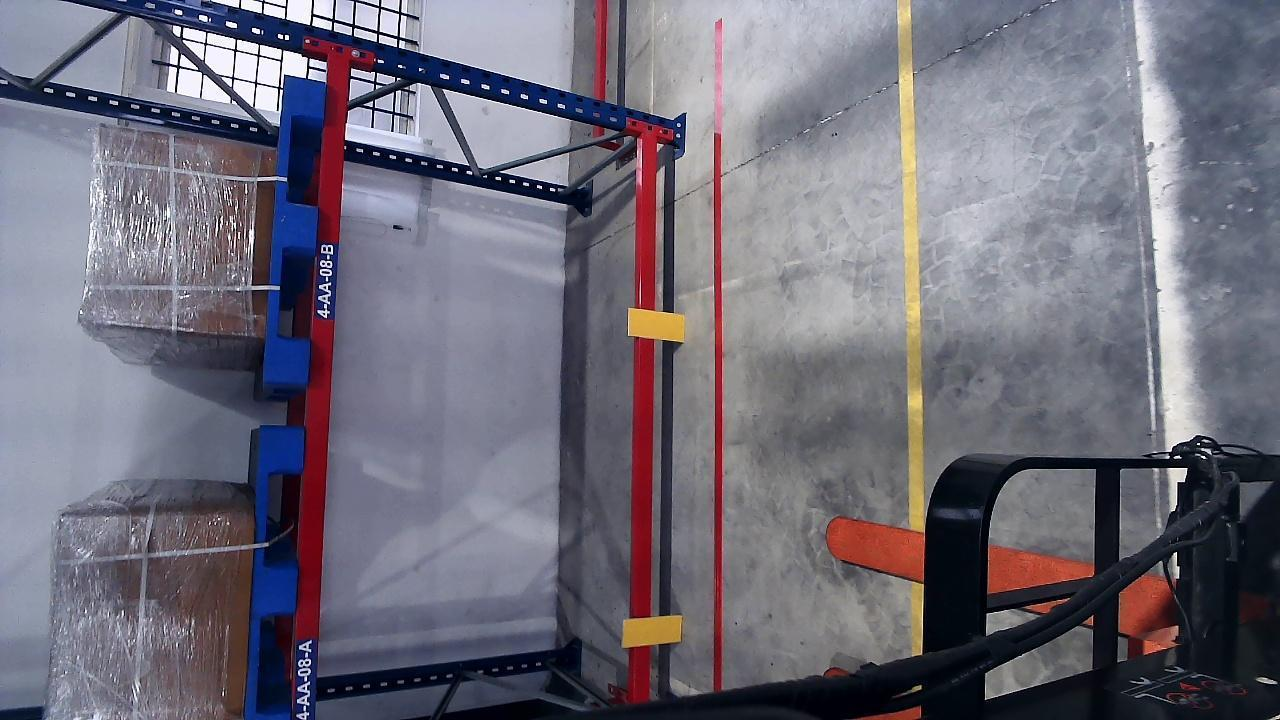red_line: (711, 15, 722, 691)
yellow_line: (896, 0, 928, 690)
